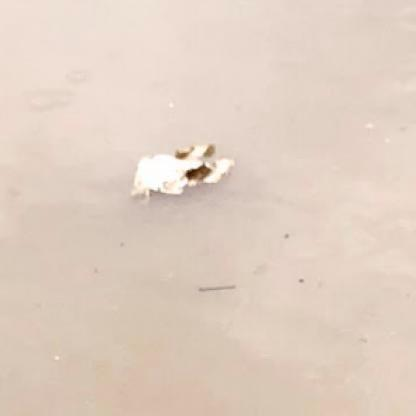Trash: (126, 138, 238, 208)
